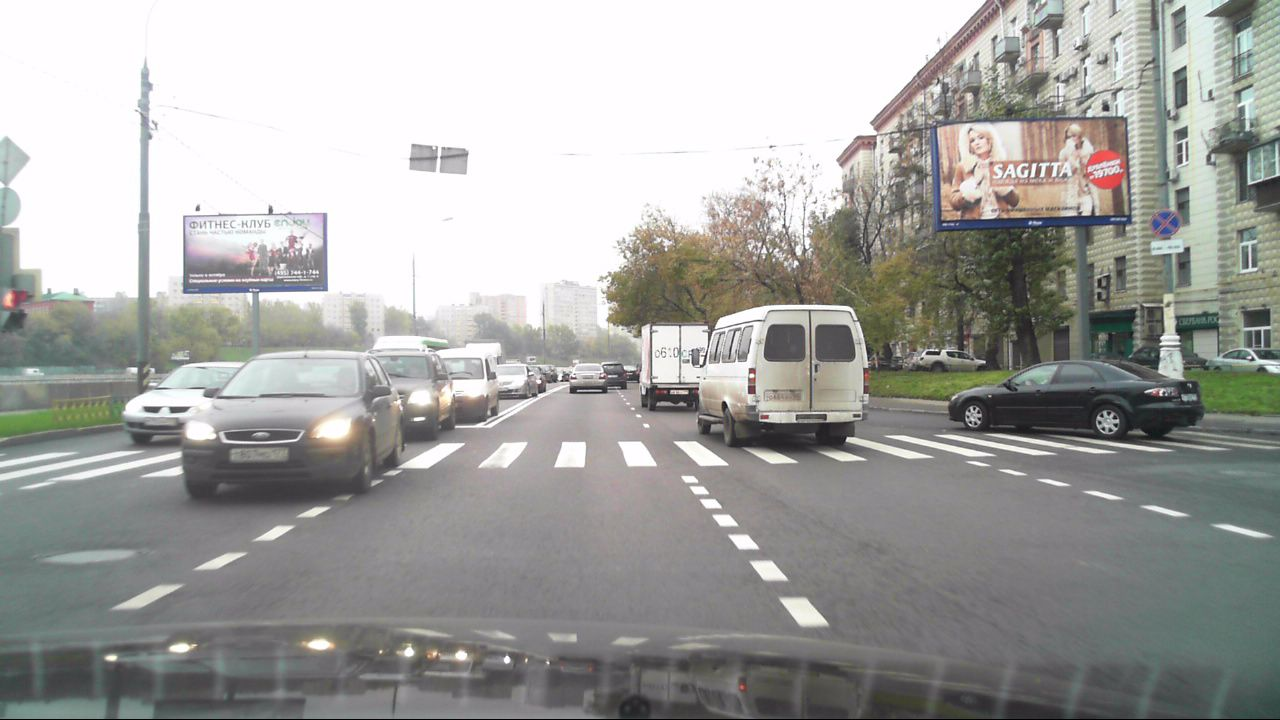No Parking: (1150, 207, 1180, 236)
